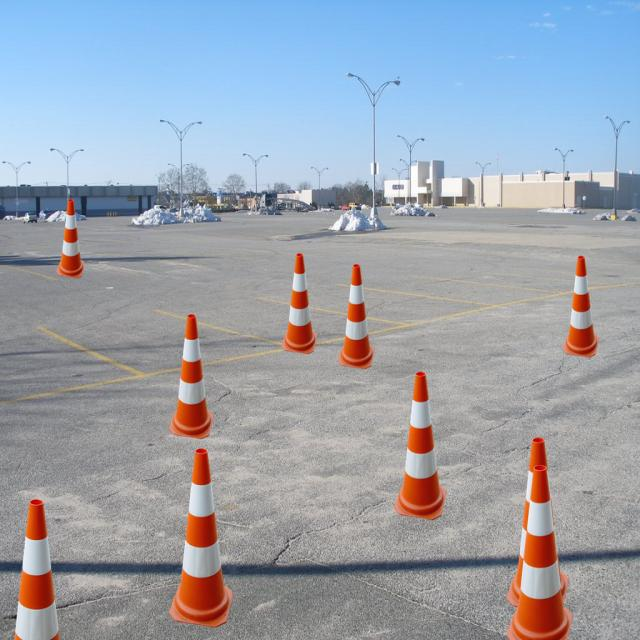large_orange_cone: (506, 465, 573, 640), (169, 448, 233, 628), (506, 438, 570, 612), (0, 499, 72, 640), (394, 372, 447, 520), (168, 314, 214, 439), (337, 264, 375, 369), (562, 256, 600, 357), (282, 253, 318, 354), (56, 200, 85, 278)
